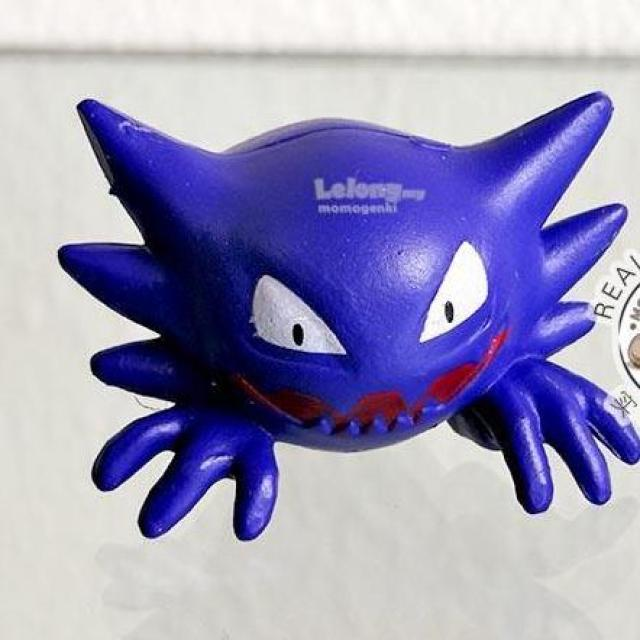Haunter: (70, 84, 620, 543)
